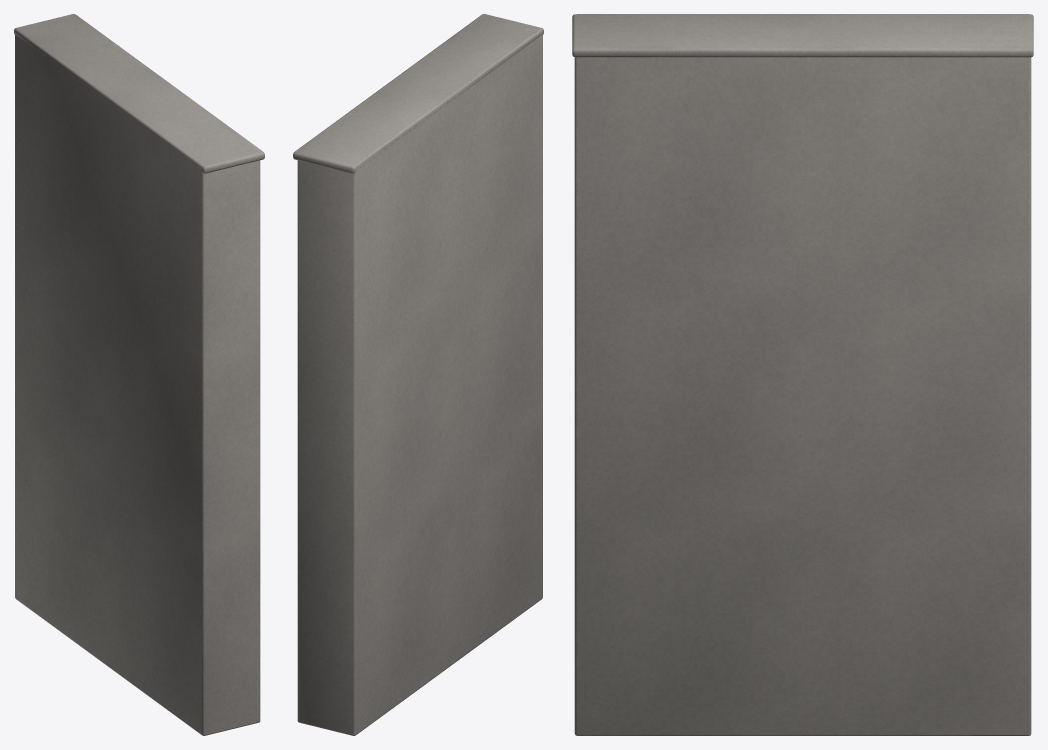
Rendered from prop_step.fbx.
The picture shows the model from 3 angles, left to right: view 1: azimuth 30°, elevation 25°; view 2: azimuth 150°, elevation 25°; view 3: azimuth 270°, elevation 25°; orthographic projection. The views are drawn at different scales.
Parts seen in each view (by area): view 1: prop_step; view 2: prop_step; view 3: prop_step.
Boxes of the visible parts, x1=… form: prop_step: x1=14, y1=14, x2=264, y2=735; prop_step: x1=293, y1=14, x2=543, y2=735; prop_step: x1=572, y1=14, x2=1033, y2=735.
Bounding box in the file's own units: 0.34 × 3 × 1.82.
